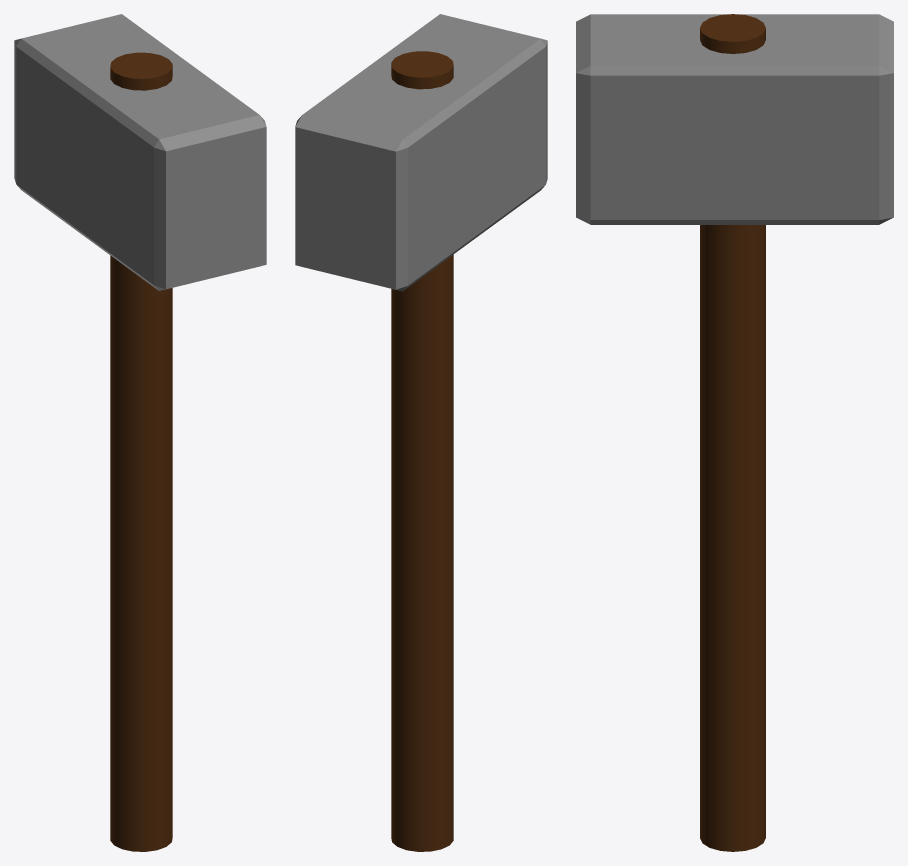
File: hammer.glb
3 views of the same model, side by side, from view 1: azimuth 30°, elevation 25°; view 2: azimuth 150°, elevation 25°; view 3: azimuth 270°, elevation 25° (orthographic). The views are drawn at different scales.
Visible parts, largest first — view 1: HammerHead, Hammer; view 2: HammerHead, Hammer; view 3: HammerHead, Hammer.
Boxes of the visible parts, box(x1,y1,x2,y2) form: HammerHead: box(14, 14, 266, 290); Hammer: box(110, 52, 172, 851); HammerHead: box(295, 14, 547, 291); Hammer: box(391, 51, 453, 851); HammerHead: box(576, 14, 893, 224); Hammer: box(700, 14, 765, 851).
Bounding box in the file's own units: 0.401 × 2.68 × 0.9523.
